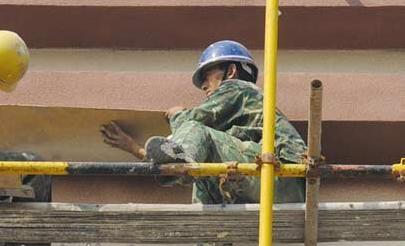gloves: (99, 120, 144, 160)
hard-hat: (191, 39, 258, 89)
person: (99, 38, 309, 205)
ppe-suit: (143, 79, 309, 205)
